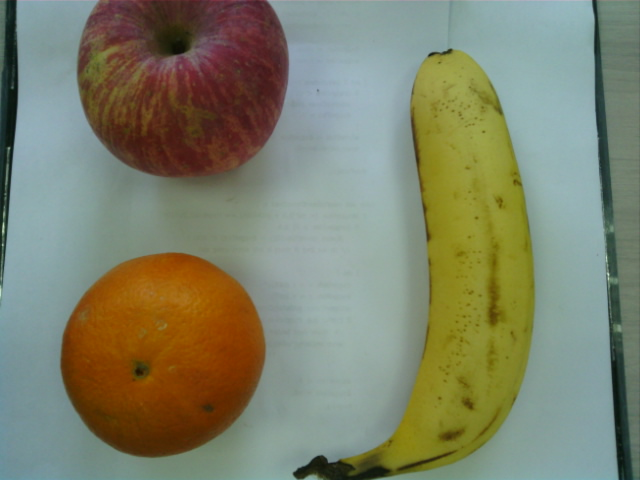normal_apple: (75, 2, 292, 178)
normal_banana: (337, 45, 543, 480)
normal_orange: (58, 251, 270, 459)
